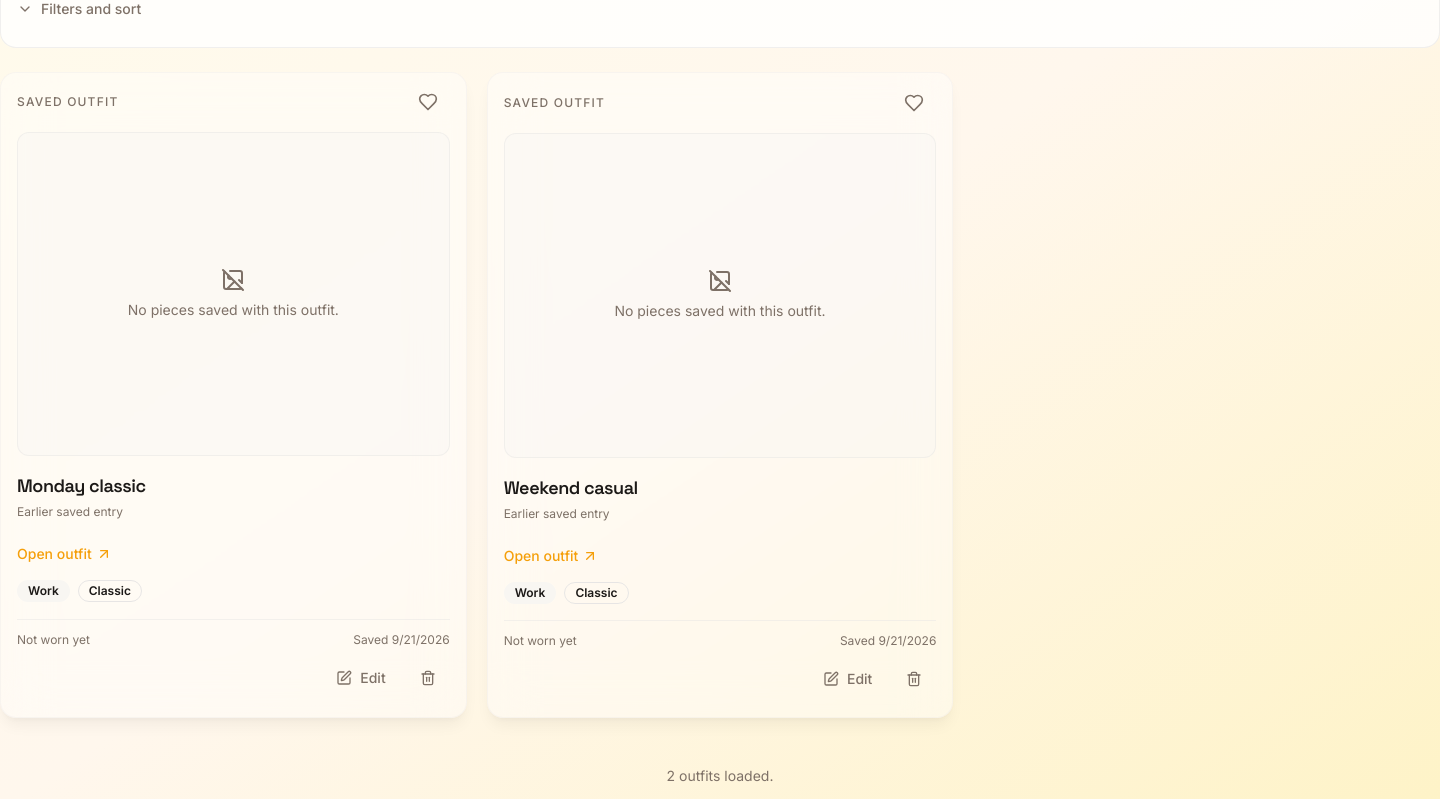
keeps the deleted card available when deletion fails after one confirmation
The width and height of the screenshot is (1440, 799).
(page scrolled)
Click the button named "Delete Monday classic": click(428, 678) [406, 656, 450, 700]
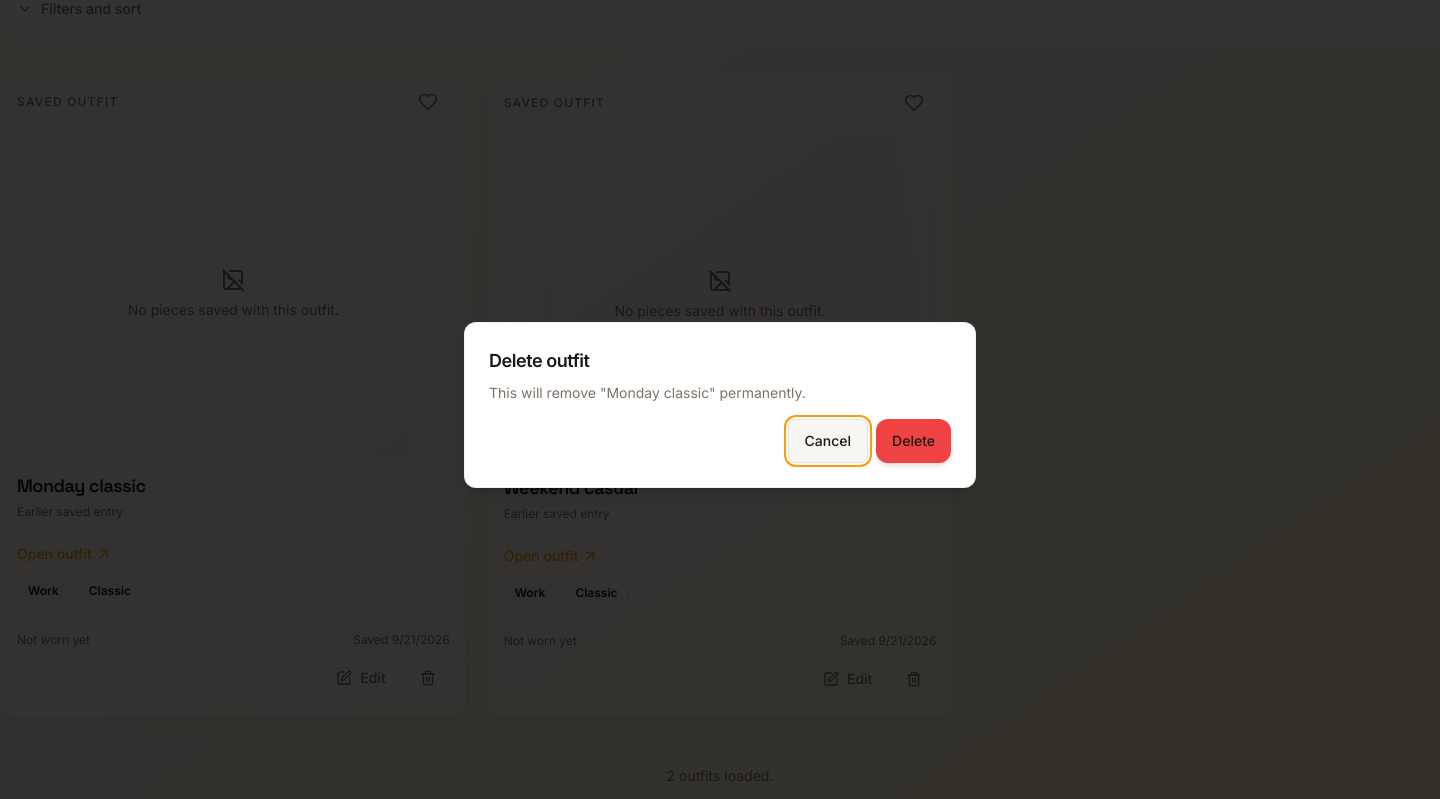
Click the button "Delete": click(914, 441) [876, 419, 951, 463]
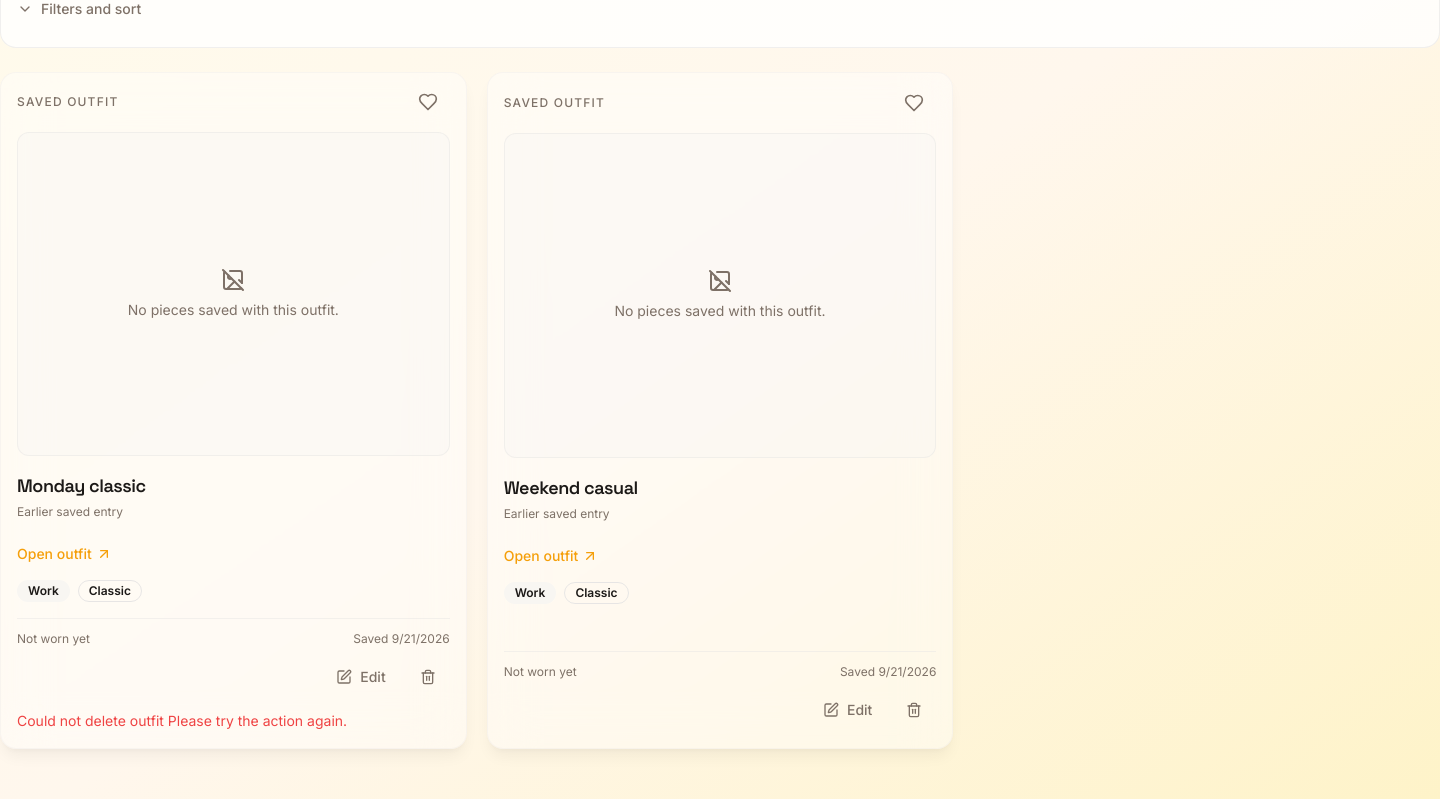
Check: the heading "Monday classic" is shown, box [17, 474, 146, 498]
Check: the message shows "Could not delete outfit", box [17, 712, 164, 730]
